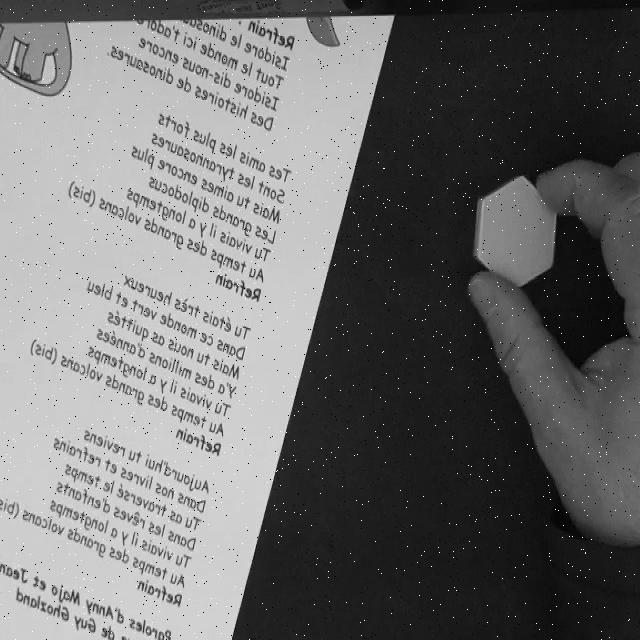hexagon: (474, 174, 560, 287)
